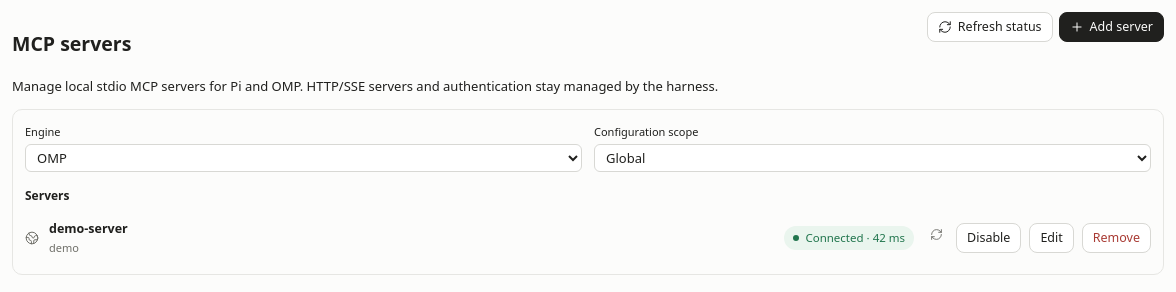
Test: McpSettings connection status › shows a per-server status and refreshes on demand
Click the button with class "mcp-row__refresh" at point(936, 235), box [924,223,948,247]
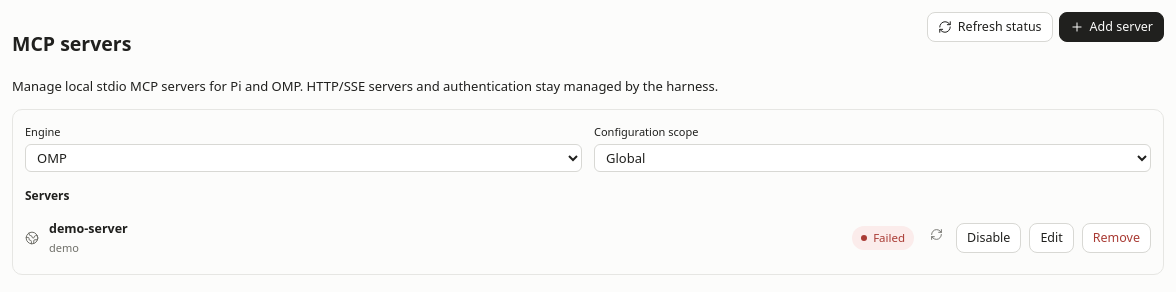
Now the text "Failed" is shown, box [852,226,914,250]
